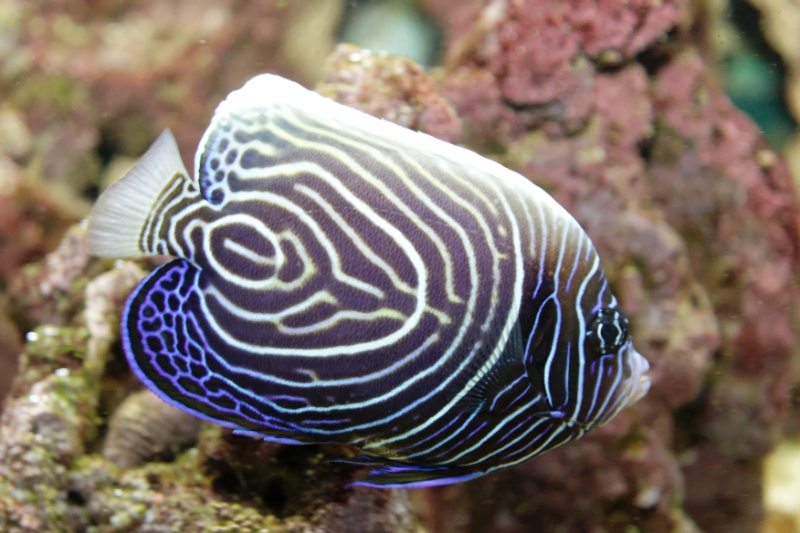Pomacanthus_imperator: (51, 61, 655, 490)
